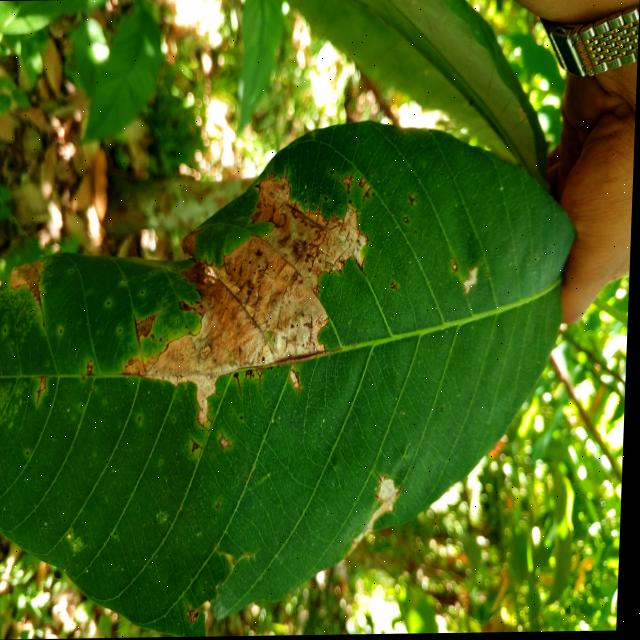Colletotrichum: (405, 218, 411, 224), (392, 283, 397, 289), (319, 234, 324, 239), (132, 359, 136, 365), (259, 202, 263, 208), (84, 375, 89, 379), (331, 170, 335, 175), (250, 290, 254, 295), (302, 280, 306, 284), (310, 268, 314, 272), (416, 231, 420, 235), (110, 301, 113, 305), (62, 329, 65, 333), (83, 405, 86, 409), (163, 337, 165, 341), (307, 199, 309, 203), (321, 259, 323, 263), (251, 260, 253, 264)
Corynespora: (38, 375, 51, 403), (188, 596, 201, 624), (306, 315, 317, 343), (137, 313, 161, 325), (296, 241, 308, 265), (35, 282, 45, 308), (236, 374, 246, 400), (348, 170, 358, 194), (377, 469, 391, 486), (223, 431, 236, 449), (296, 372, 306, 395), (194, 437, 206, 455), (136, 318, 144, 342), (257, 374, 266, 394), (363, 187, 374, 203), (317, 198, 324, 222), (409, 195, 420, 209), (90, 360, 98, 375), (359, 177, 369, 189), (377, 491, 384, 503)
Leaf-Blight: (125, 174, 373, 427), (351, 479, 402, 556), (11, 256, 45, 298)
